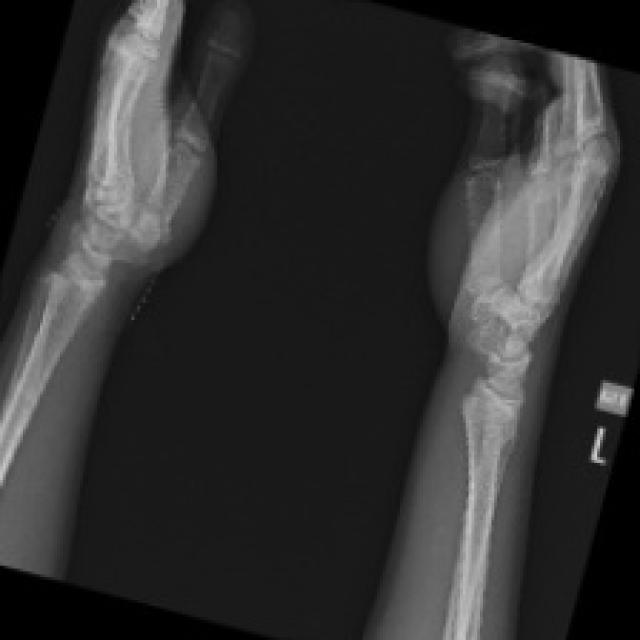fracture: (452, 312, 540, 444)
